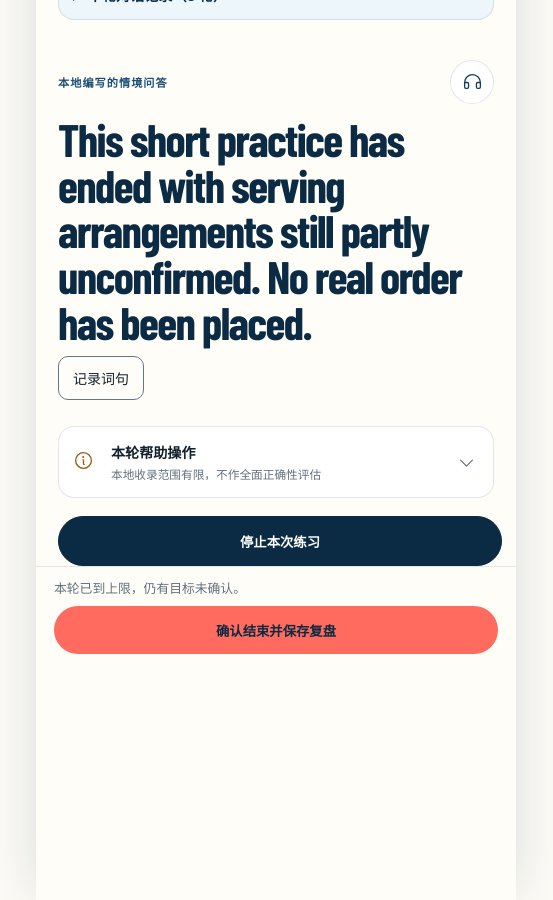
offers explicit confirmation for a real terminal scene task and settles only through the original transaction
(page scrolled)
Click the button "确认结束并保存复盘": click(276, 630) [54, 606, 498, 654]
(page scrolled)
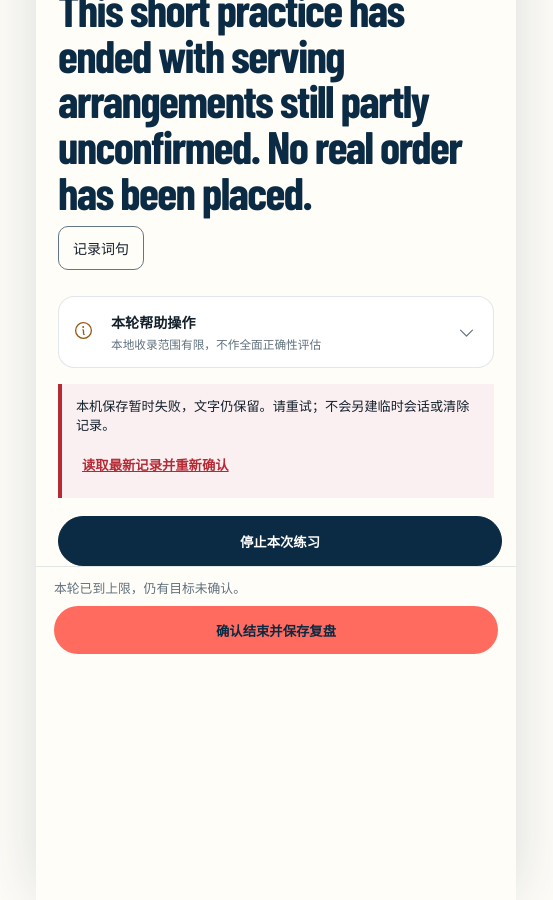
Check: the button "读取最新记录并重新确认" is shown, box [76, 442, 235, 486]
Click the button "确认结束并保存复盘": click(276, 630) [54, 606, 498, 654]
(page scrolled)
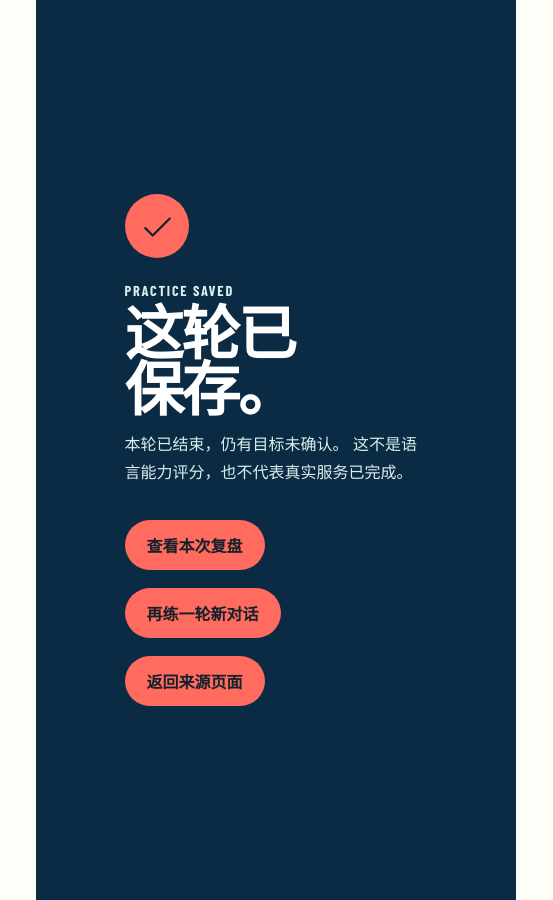
Check: the heading "这轮已保存。" is shown, box [125, 304, 312, 416]
